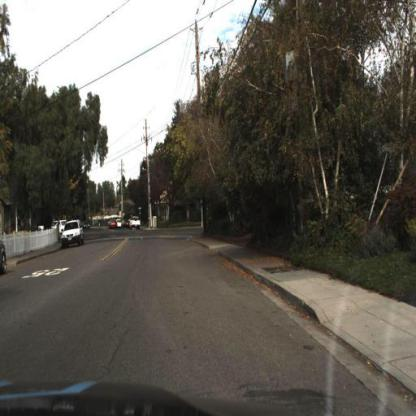car: (60, 219, 82, 251), (127, 214, 145, 232)
trafficLight-Red: (147, 193, 153, 211)
